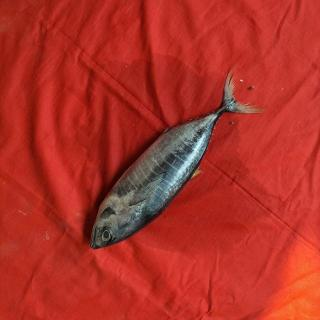Ikan: (74, 59, 270, 266)
